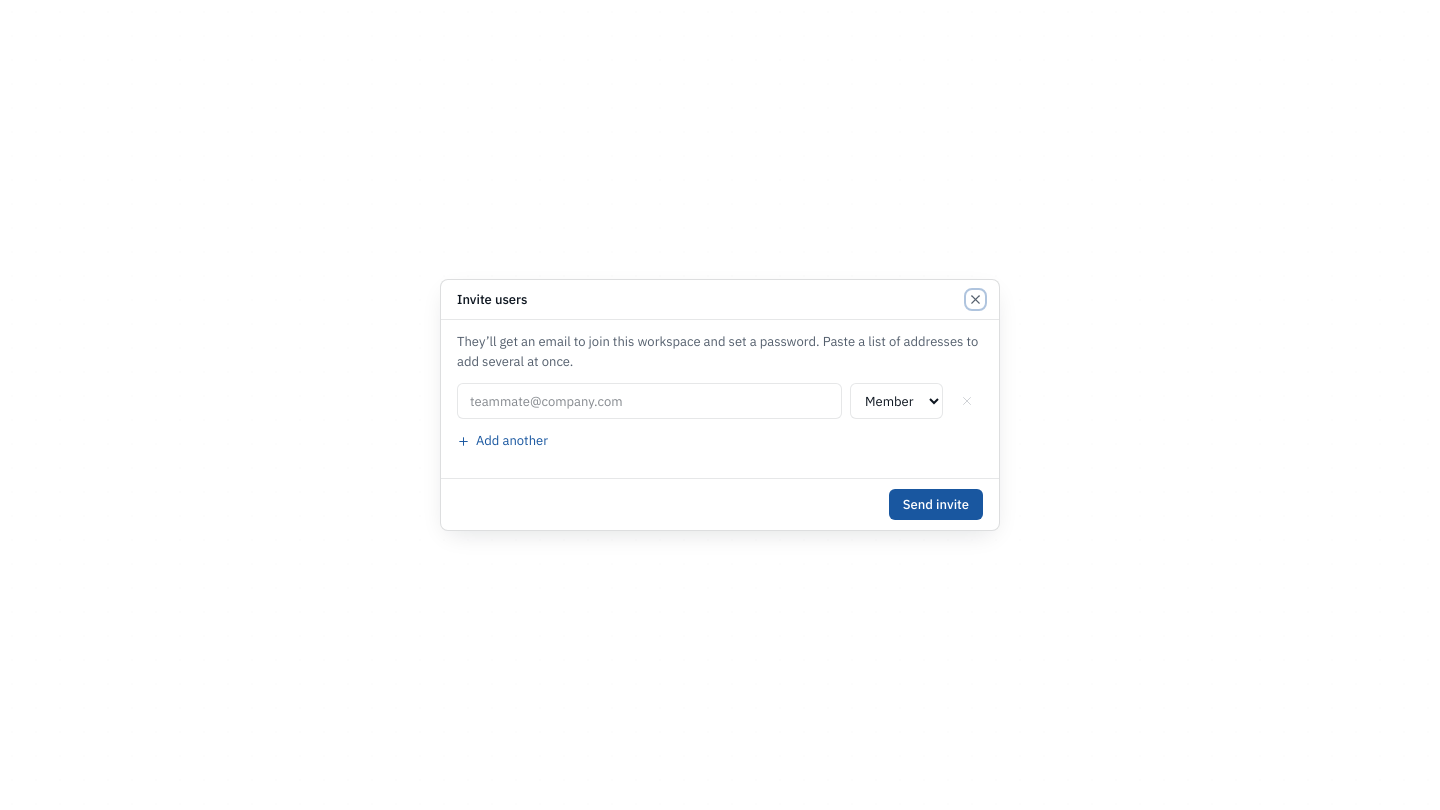
Test: a refusal the user can see › names the address it could not parse
Type "brandon@" into the field with placeholder "teammate@company.com" at point(650, 401), box [457,383,842,419]
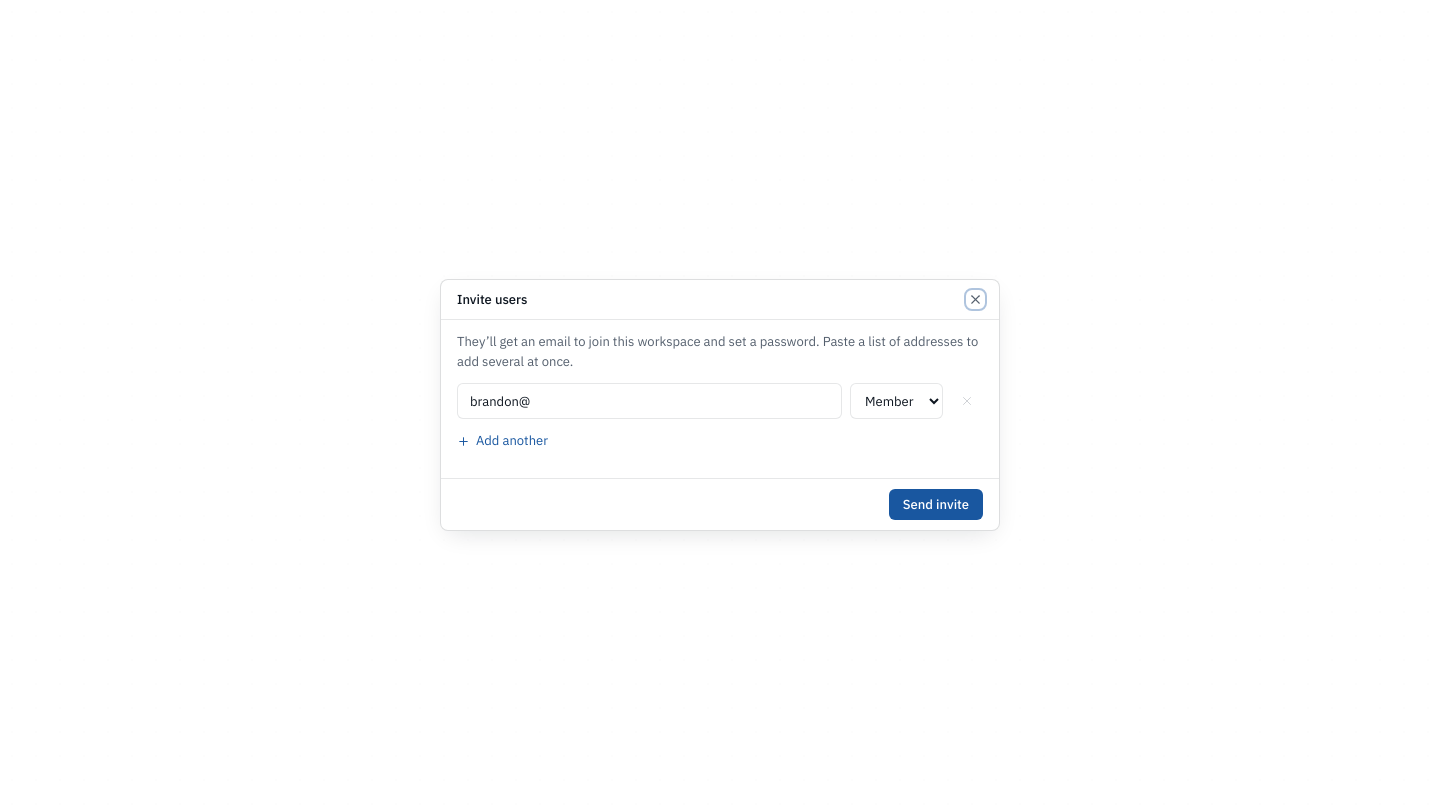
Click the button "Send invite" at point(936, 504), box [889,489,983,520]
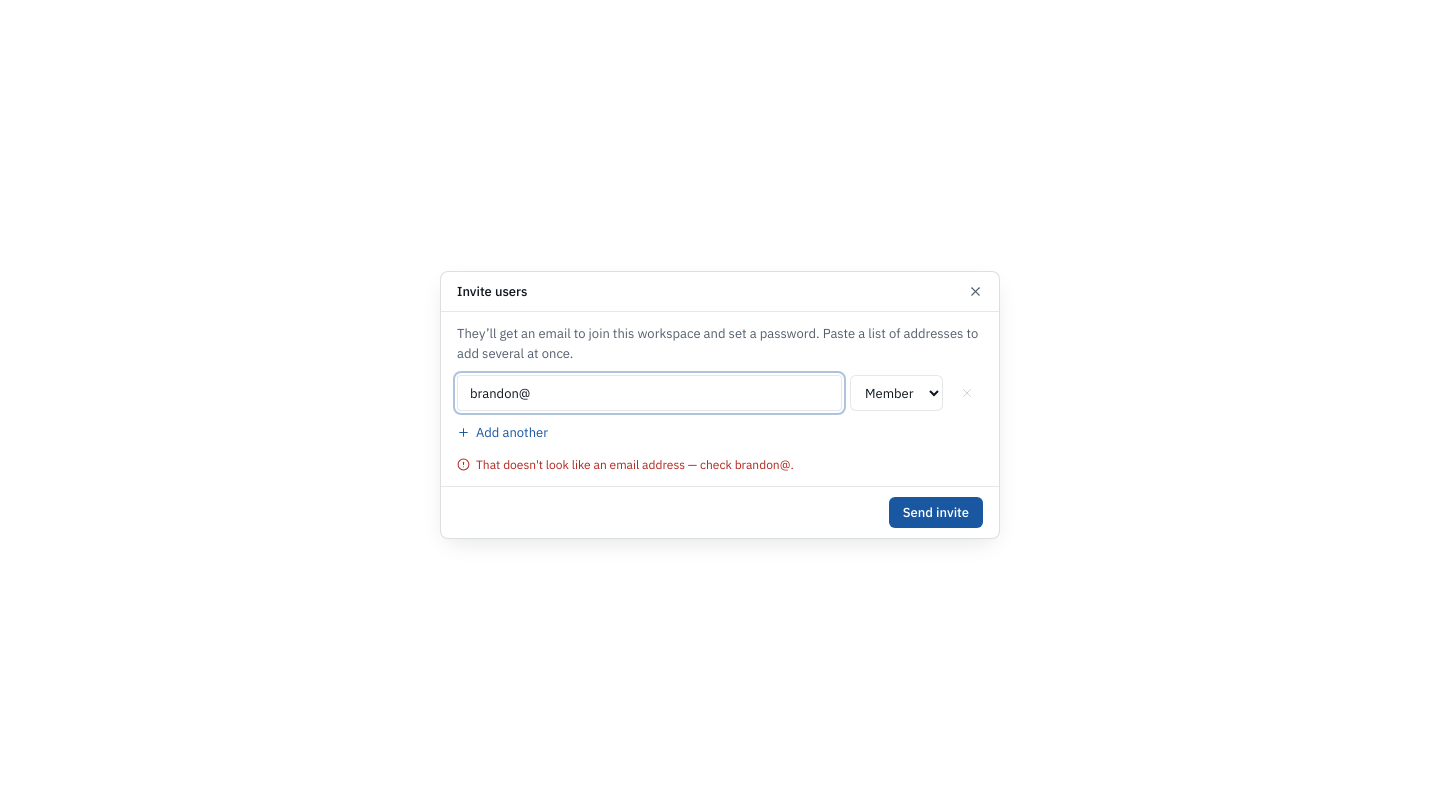
expect the text "That doesn't look like an email address — check brandon@." is shown: met, box [476,457,794,474]
